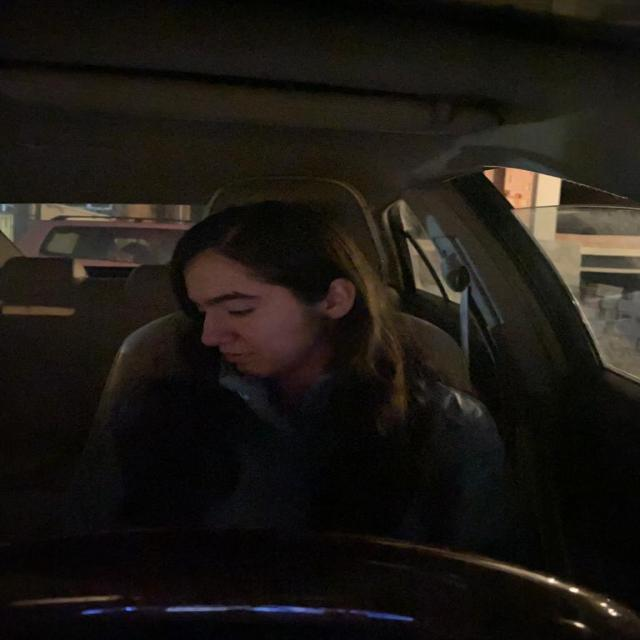drowsy: (157, 214, 367, 386)
